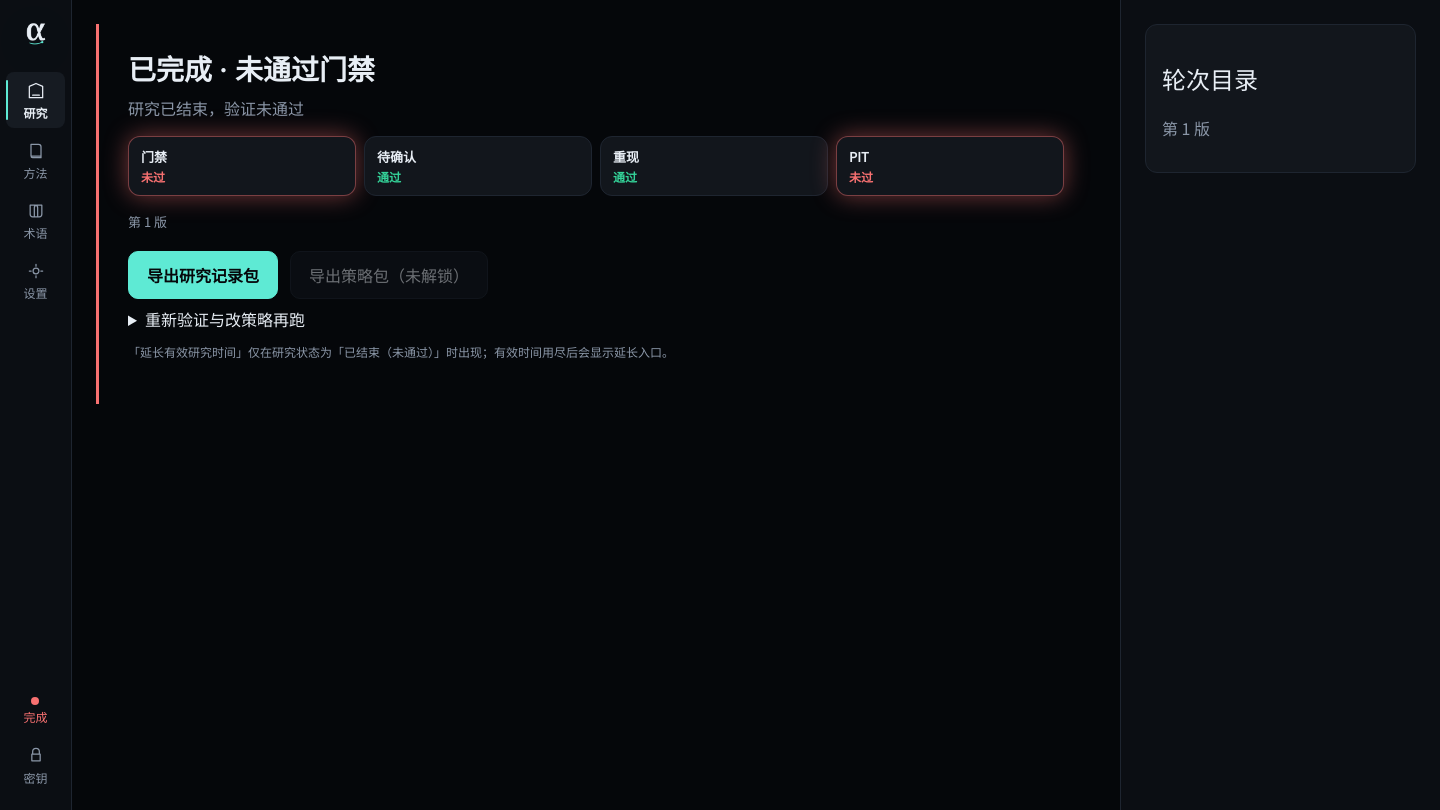
Test: export feedback › shows error when export fails
The width and height of the screenshot is (1440, 810).
What coordinates should you click on to do the following:
click the button with test id "export-research-record-primary"
I would click on:
 (203, 275)
Its box is 128,251 -> 278,299.
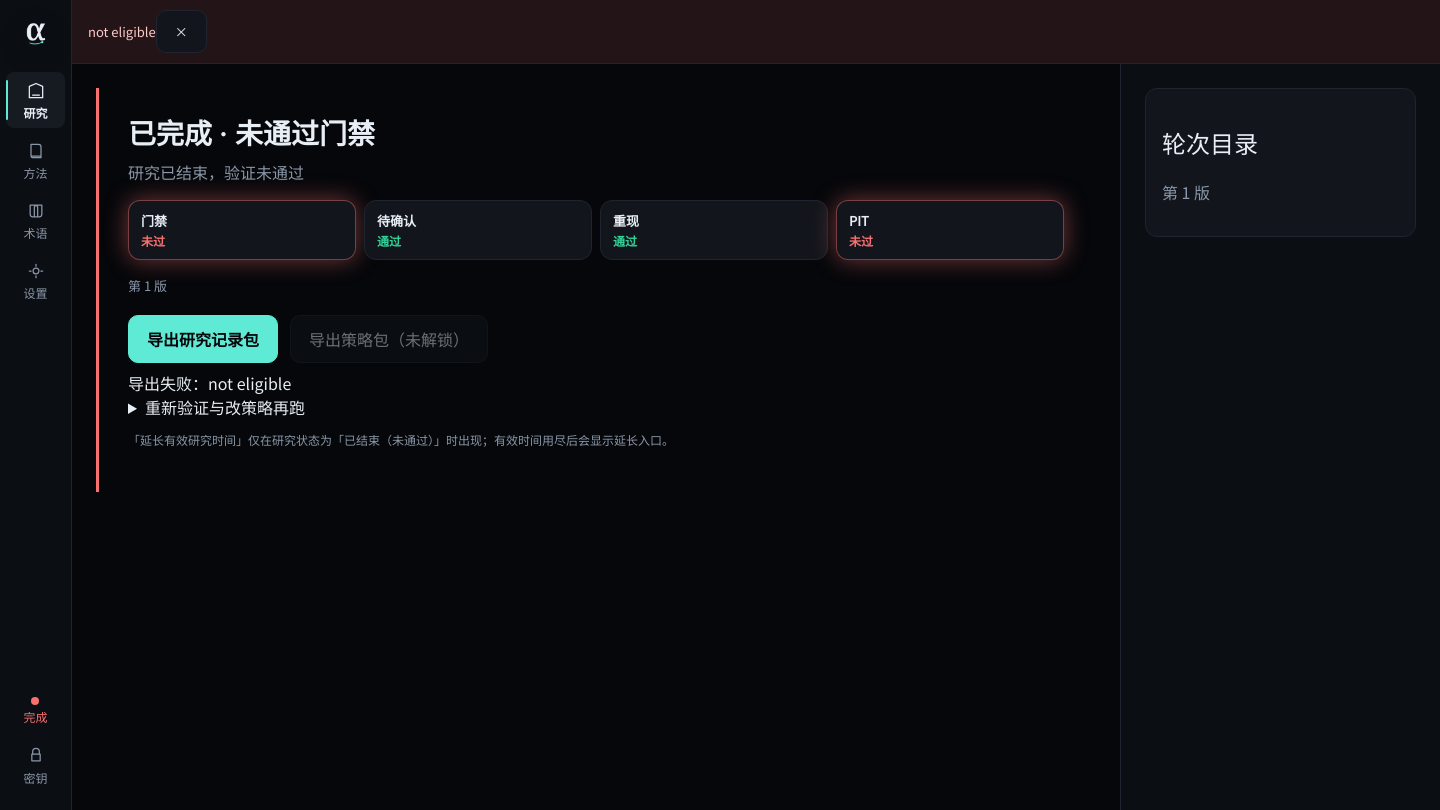
Expected: the message with test id "export-error" reads "导出失败：not eligible", 128,371 -> 291,395
